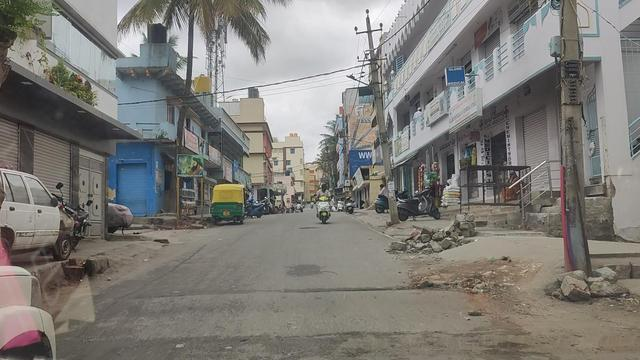RoadDamages: (222, 316, 451, 360), (298, 269, 450, 301)
